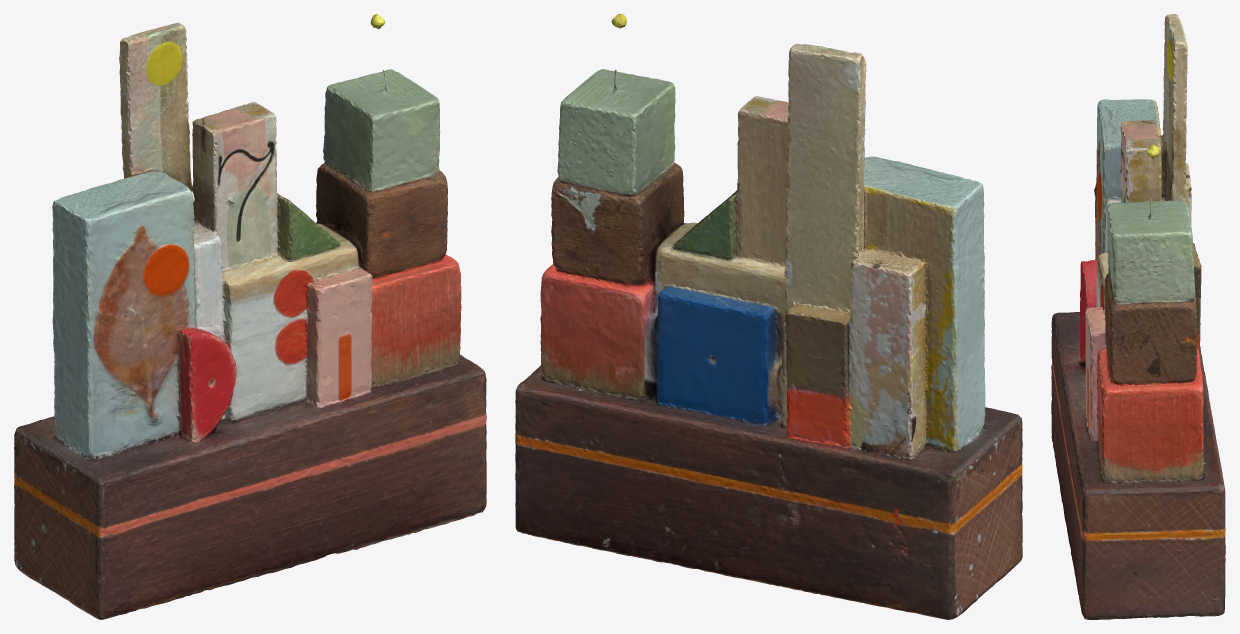
The model's file is Kompleks_7.fbx.
The picture shows the model from 3 angles, left to right: view 1: azimuth 30°, elevation 25°; view 2: azimuth 150°, elevation 25°; view 3: azimuth 270°, elevation 25°; orthographic projection. The views are drawn at different scales.
Parts seen in each view (by area): view 1: Object; view 2: Object; view 3: Object.
Part boxes in pixels (box(x1,y1,x2,y2)): Object: box(14, 14, 486, 619); Object: box(515, 14, 1022, 619); Object: box(1051, 14, 1225, 619).
Size of the model in its own units: 12.86 by 15.29 by 5.12.
Materials: 1 (1 with a texture image).
